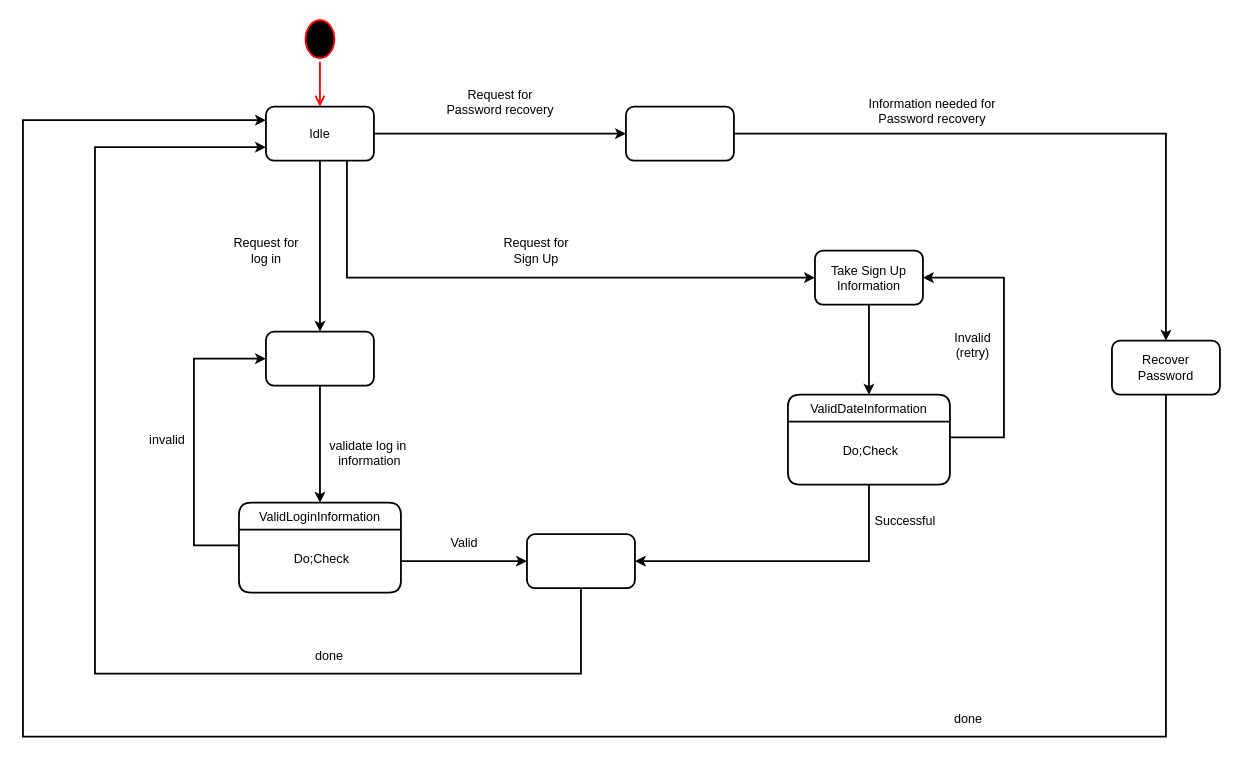
Some shapes in this 1236 by 760 pixel diagram are drawn without their labels. The shapes that lost their labels are listed below. From the top down, each one's centre as x and y in pixels, then its label:
At point (679, 133): "Forgotten Password Management".
At point (319, 358): "Take Login Informationn".
At point (580, 561): "Logged In".
